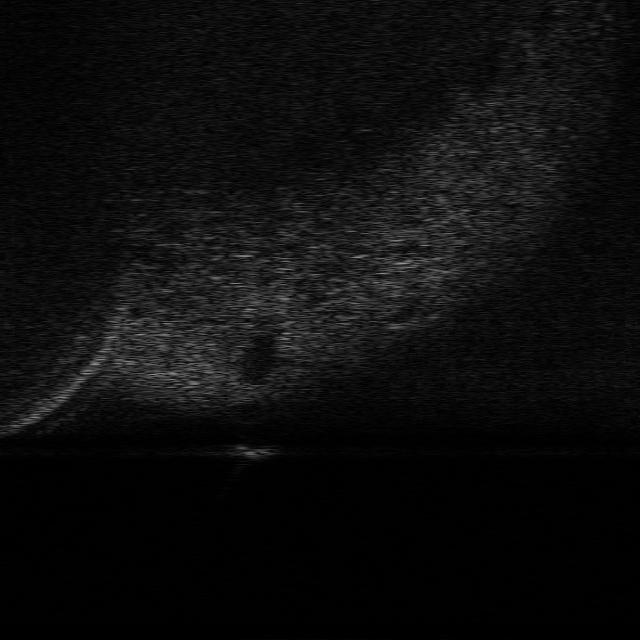cube: (230, 439, 281, 462)
